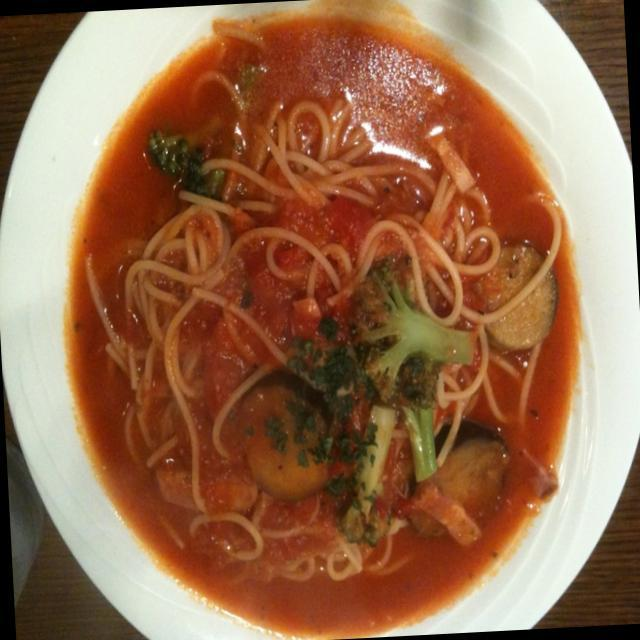Pasta: (36, 0, 626, 640)
